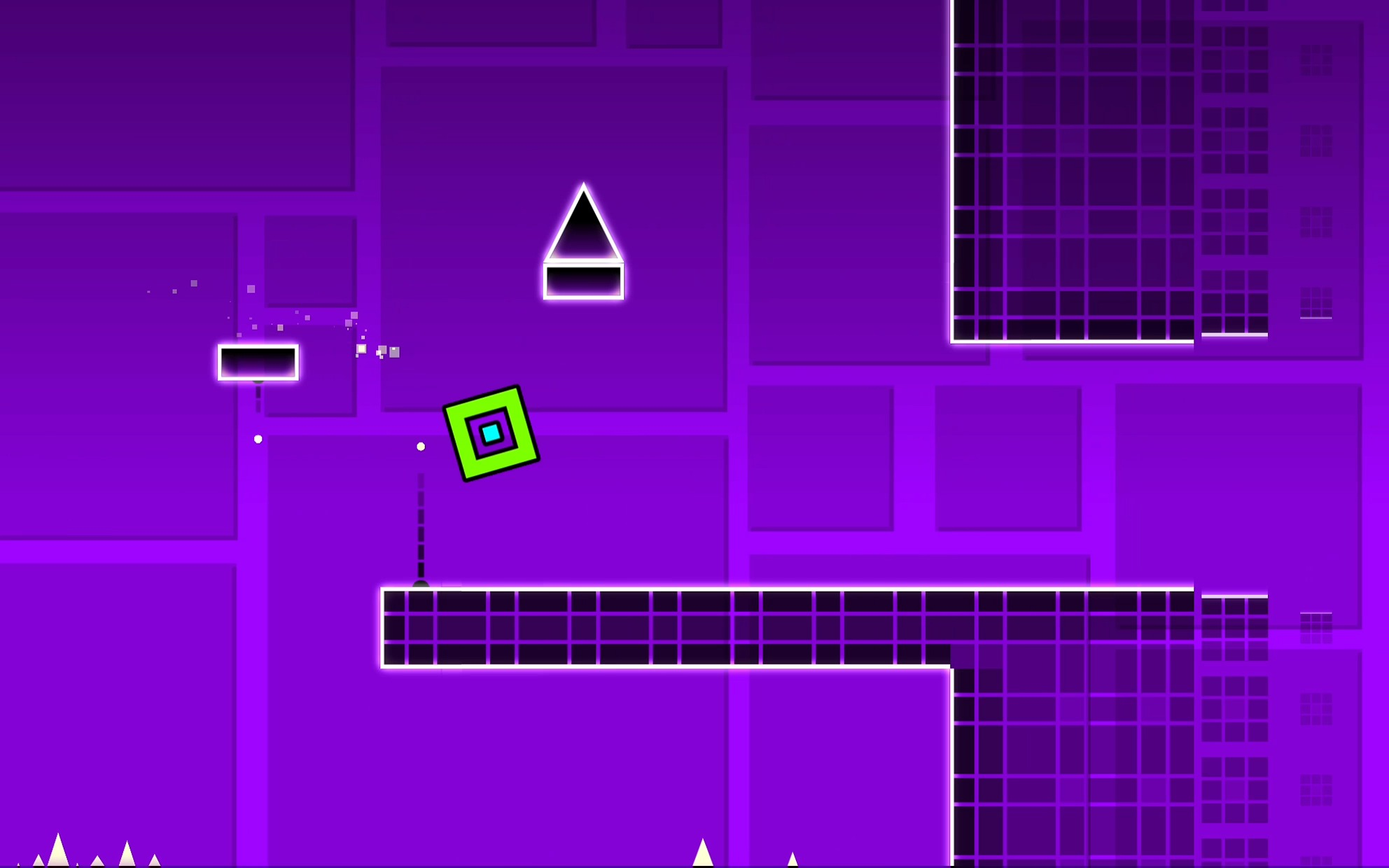Block2: (950, 0, 1272, 320), (950, 595, 1275, 868), (369, 589, 976, 668)
Block3: (546, 265, 631, 302), (216, 346, 299, 383)
Player: (448, 385, 539, 479)
Spike: (548, 183, 628, 296)
